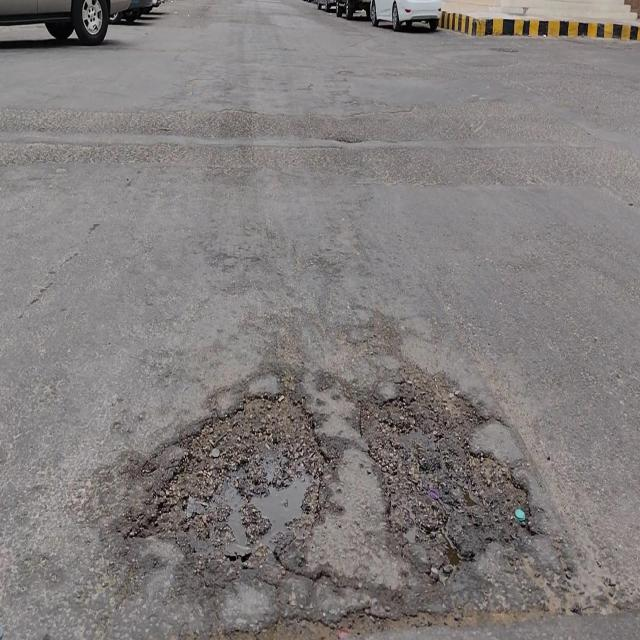Pothole: (354, 370, 540, 587), (148, 399, 329, 578)
